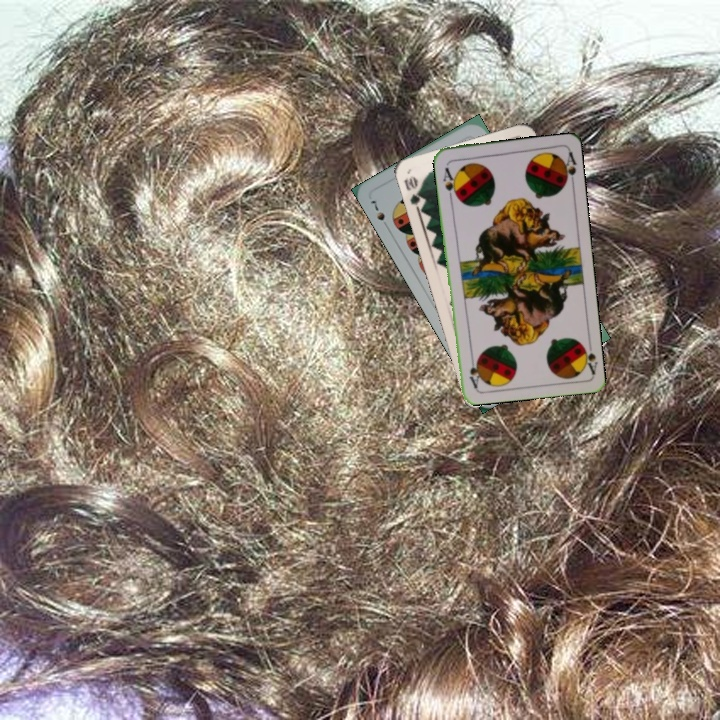G10: (400, 171, 427, 212)
S7: (366, 196, 392, 232)
SA: (577, 336, 599, 376), (439, 163, 460, 201)
